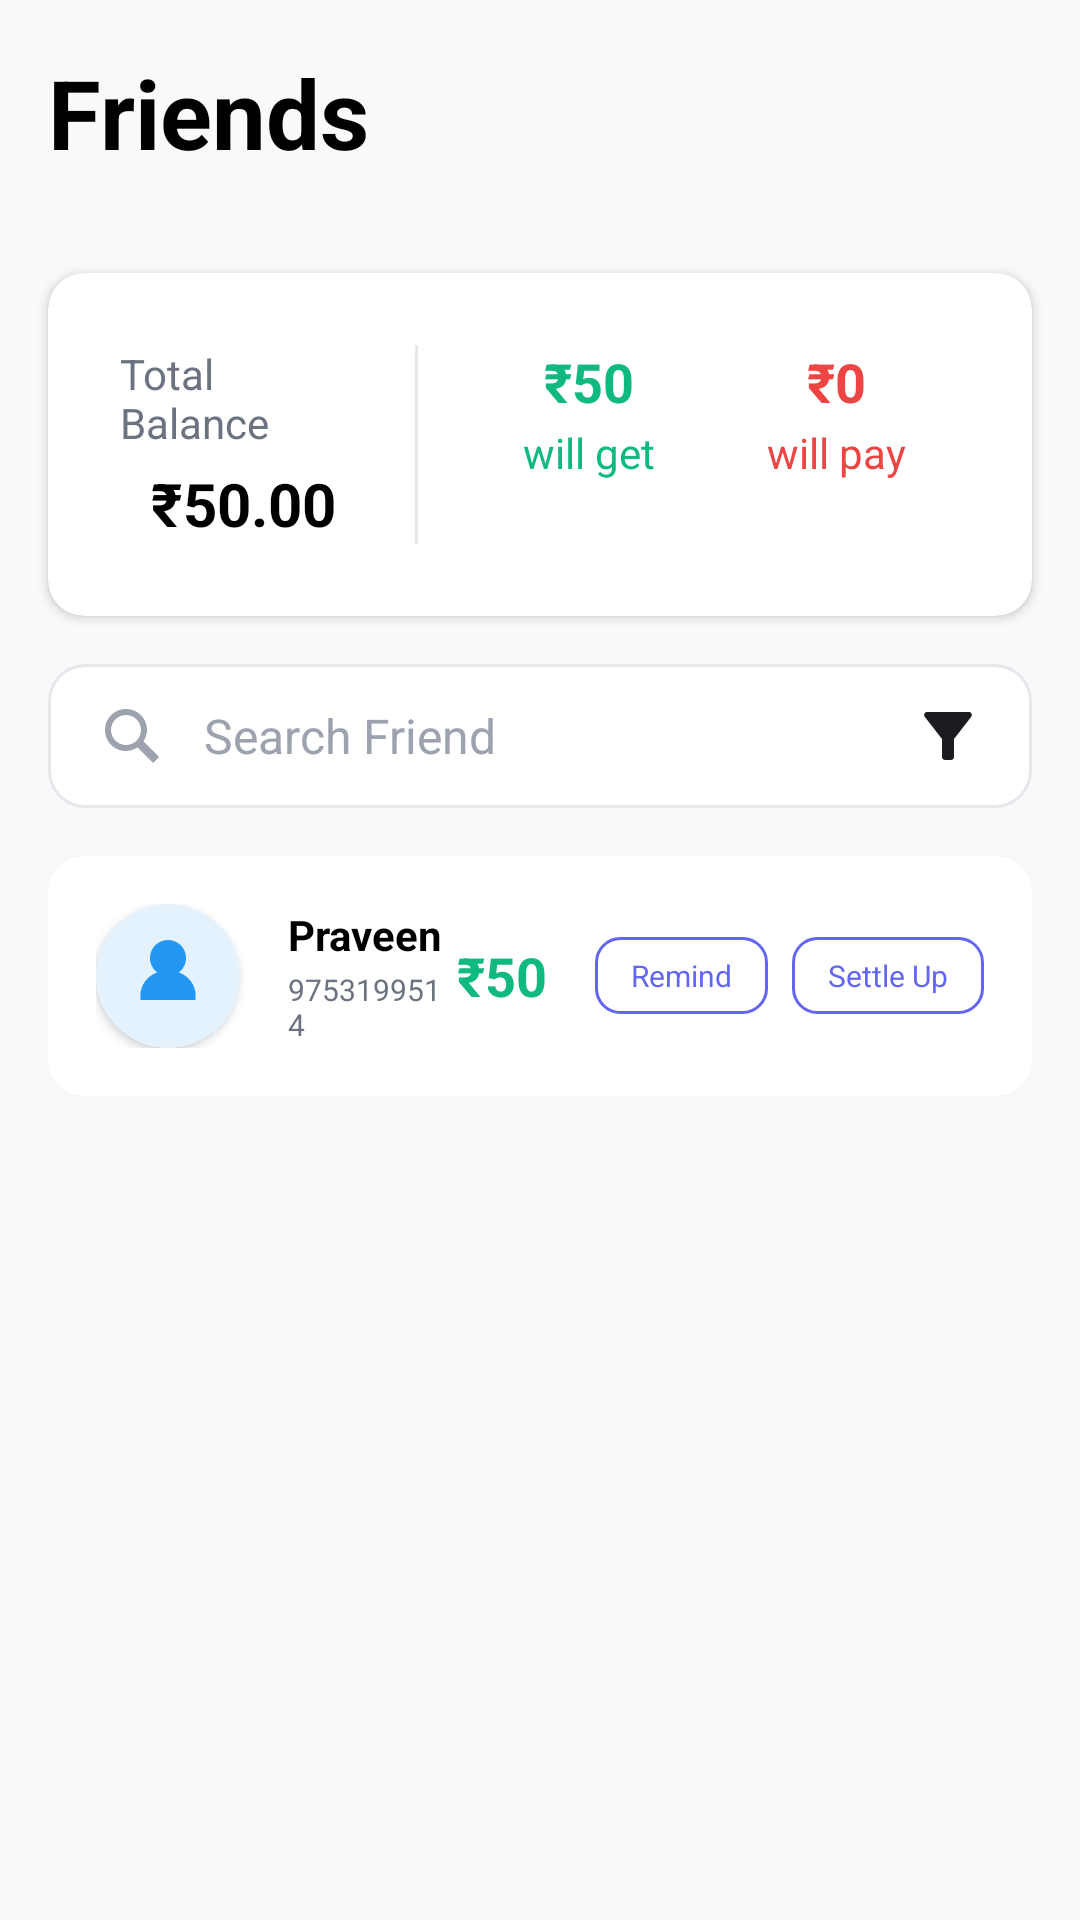

Named icons in this screenshot (1080*1920) and their bounding boxes, (x1, y1, x2, y2):
filter: (924, 712, 972, 760)
Friend Profile: (96, 904, 240, 1048)
